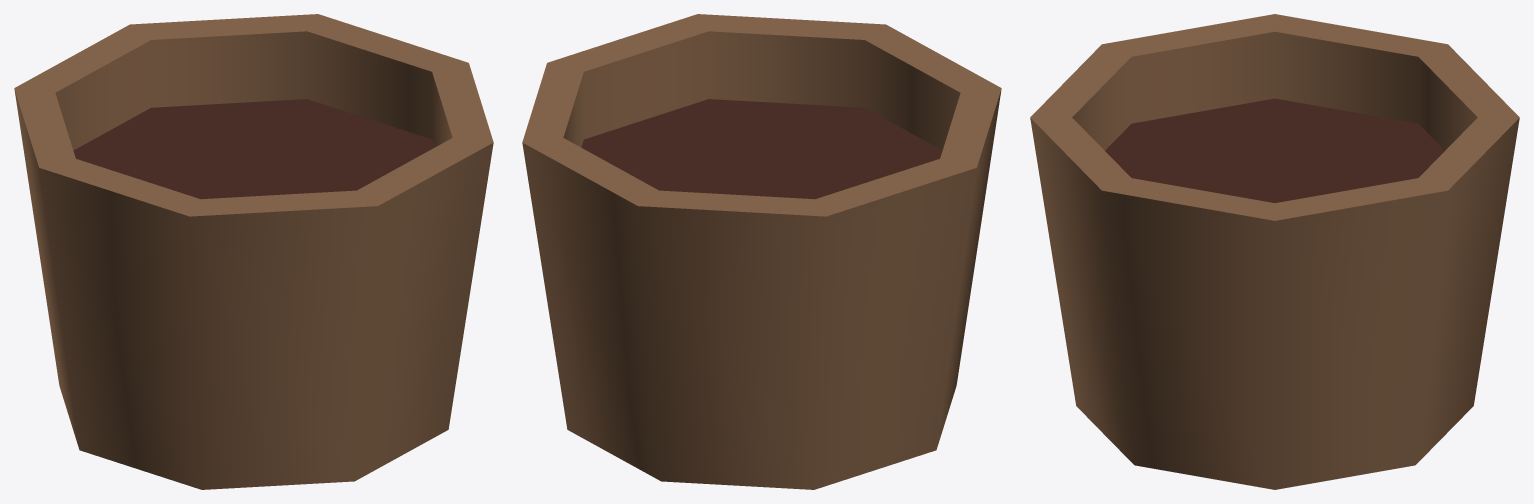
Rendered from pot.fbx.
3 views of the same model, side by side, from view 1: azimuth 30°, elevation 25°; view 2: azimuth 150°, elevation 25°; view 3: azimuth 270°, elevation 25° (orthographic).
Visible parts, largest first — view 1: Cylinder.015; view 2: Cylinder.015; view 3: Cylinder.015.
Boxes of the visible parts, x1,y1,x2,y2 form: Cylinder.015: (14, 14, 493, 489); Cylinder.015: (522, 14, 1001, 489); Cylinder.015: (1030, 14, 1519, 489).
Bounding box in the file's own units: 1079 × 702 × 1079.
